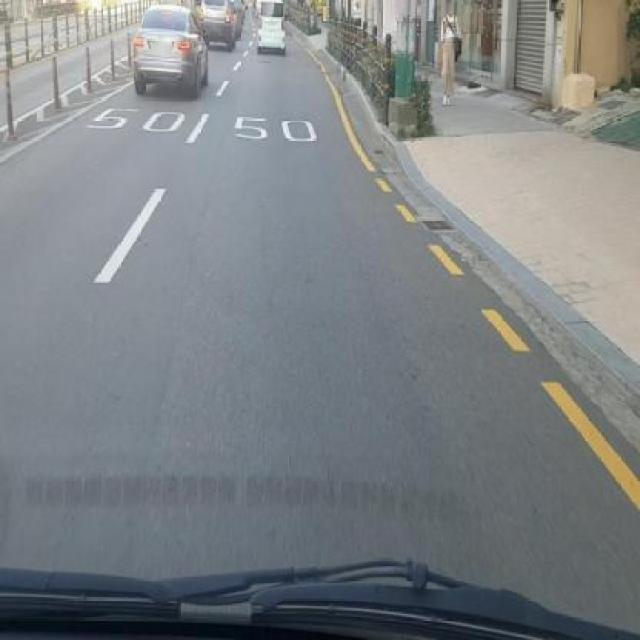Manhole: (417, 215, 457, 234)
